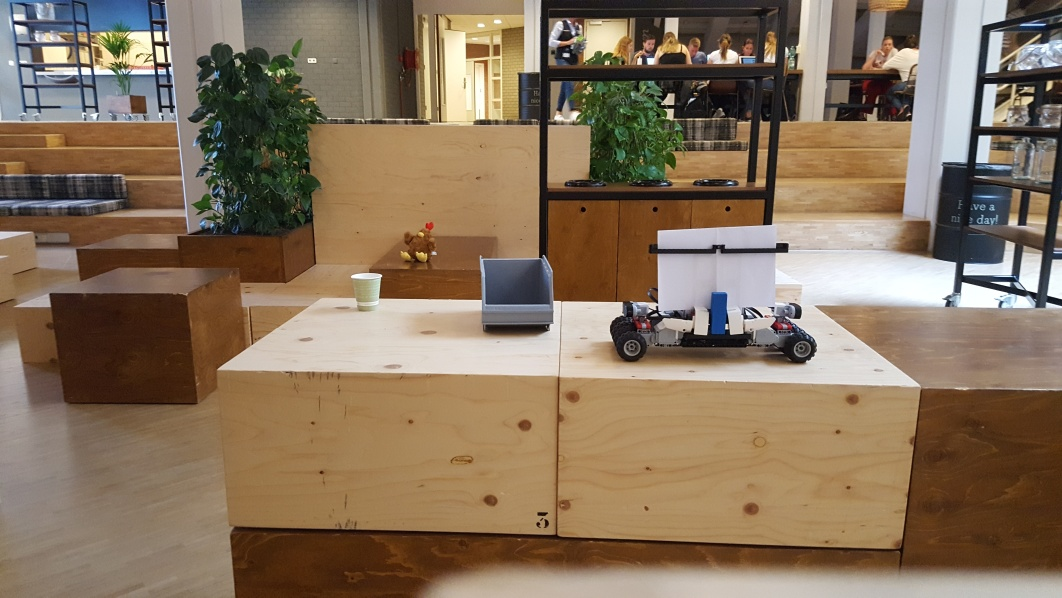car: (610, 224, 819, 363)
chicken: (399, 223, 442, 259)
cup: (349, 271, 381, 312)
tray: (475, 251, 557, 336)
